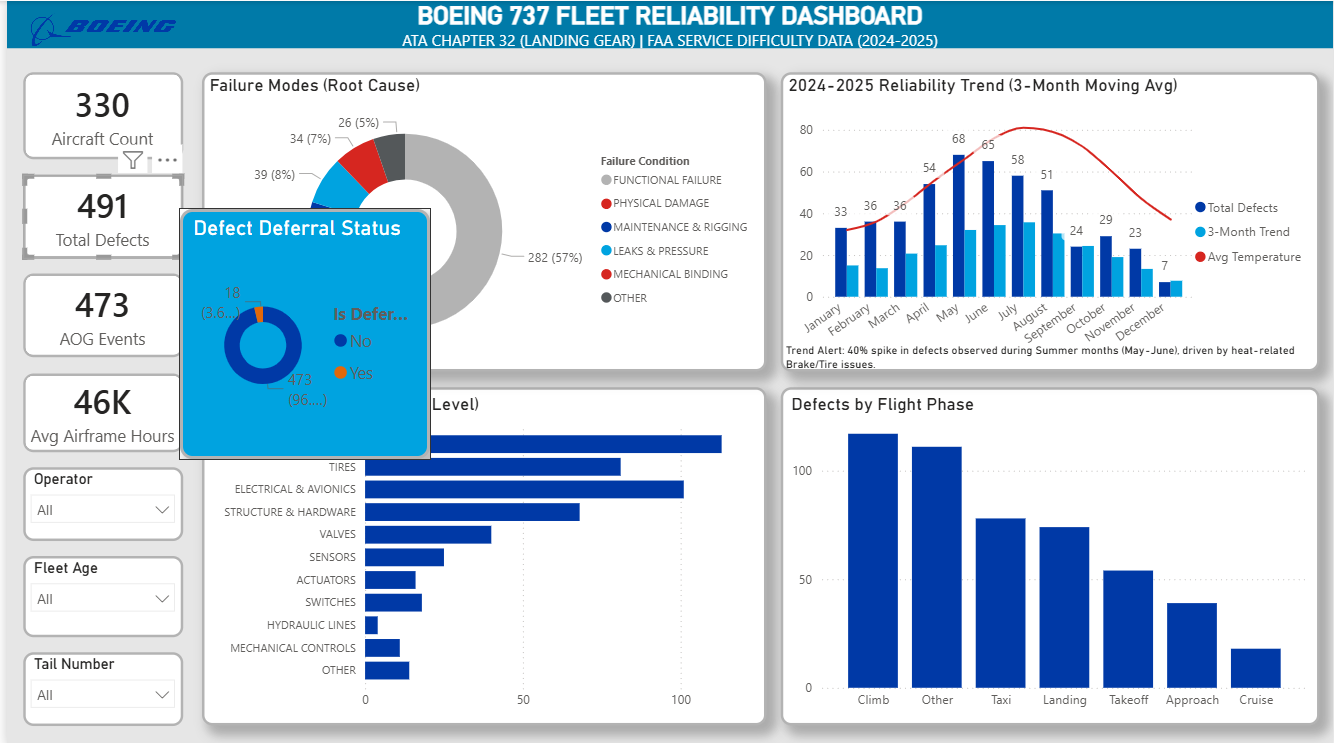

What the dashboard file says about the page in this screenshot:
{"tool":"powerbi","page":{"name":"Main","canvas":[1280,720],"ordinal":0},"visuals":[{"type":"clusteredBarChart","title":"Top Failure Drivers (System Level)","fields":{"Category":["aviation_project sdr_landing_gear.PartName (groups)"],"Y":["_key_measures.Total Defects"]},"box":[187.8,372.2,544.4,326.7],"z":1000},{"type":"slicer","title":"Filter by Operator","fields":{"Values":["aviation_project sdr_landing_gear.OperatorDesignator"]},"box":[16,449.7,154,71],"z":2000},{"type":"donutChart","title":"Failure Modes (Root Cause)","fields":{"Y":["_key_measures.Total Defects"],"Category":["aviation_project sdr_landing_gear.PartCondition (groups)"]},"box":[187.8,68.9,544.4,288.9],"z":3000},{"type":"shape","title":"BOEING 737 FLEET RELIABILITY DASHBOARD","box":[0,0,1280,45.6],"z":4000},{"type":"image","box":[15.6,0,154.4,45.6],"z":5000},{"type":"columnChart","title":"Defects by Flight Phase","fields":{"Y":["_key_measures.Total Defects"],"Category":["aviation_project sdr_landing_gear.StageOfOperationCode (groups)"]},"box":[746.7,372.2,520,326.7],"z":6000},{"type":"cardVisual","fields":{"Data":["_key_measures.Aircraft Count"]},"box":[16,69,154,84],"z":7000},{"type":"cardVisual","title":"Avg. Airframe Hours","fields":{"Data":["_key_measures.Avg Airframe Age"]},"box":[16,359.1,154,76],"z":8000},{"type":"lineClusteredColumnComboChart","title":"2024-2025 Reliability Trend (3-Month Moving Avg)","fields":{"Category":["DateTable.Date.Variation.Date Hierarchy.Month"],"Y":["_key_measures.Total Defects","_key_measures.3-Month Trend"],"Y2":["Sum(US_Temp_Data.AvgTemp)"]},"box":[746.9,69.2,520,288.5],"z":9000},{"type":"cardVisual","fields":{"Data":["_key_measures.Total Defects"]},"box":[15.6,167.6,154.4,81.1],"z":10000},{"type":"slicer","title":"Search Tail Number","fields":{"Values":["aviation_project sdr_landing_gear.RegistryNNumber"]},"box":[16,628,154,71],"z":11000},{"type":"slicer","fields":{"Values":["aviation_project sdr_landing_gear.Fleet Age Group"]},"box":[16,535.4,154,78],"z":12000},{"type":"cardVisual","fields":{"Data":["_key_measures.AOG Events"]},"box":[15.6,263.4,154.4,81.1],"z":13000},{"type":"textbox","title":"Trend Alert: 40% spike in defects observed during Summer months (May-June), driven by heat-related Brake/Tire issues.","box":[746.7,330.7,520,27.3],"z":14000}]}

Visuals, with their boxes in screenshot pixels (x1, y1, x2, y2), scaled from the page's 1280x720 canvas onto the 1334x743 screenshot:
"Top Failure Drivers (System Level)" clusteredBarChart: <region>196, 384, 763, 721</region>
"Filter by Operator" slicer: <region>17, 464, 177, 537</region>
"Failure Modes (Root Cause)" donutChart: <region>196, 71, 763, 369</region>
"BOEING 737 FLEET RELIABILITY DASHBOARD" shape: <region>0, 0, 1333, 47</region>
image: <region>16, 0, 177, 47</region>
"Defects by Flight Phase" columnChart: <region>778, 384, 1320, 721</region>
cardVisual - _key_measures.Aircraft Count: <region>17, 71, 177, 158</region>
"Avg. Airframe Hours" cardVisual: <region>17, 371, 177, 449</region>
"2024-2025 Reliability Trend (3-Month Moving Avg)" lineClusteredColumnComboChart: <region>778, 71, 1320, 369</region>
cardVisual - _key_measures.Total Defects: <region>16, 173, 177, 257</region>
"Search Tail Number" slicer: <region>17, 648, 177, 721</region>
slicer - aviation_project sdr_landing_gear.Fleet Age Group: <region>17, 553, 177, 633</region>
cardVisual - _key_measures.AOG Events: <region>16, 272, 177, 356</region>
"Trend Alert: 40% spike in defects observed during Summer months (May-June), driven by heat-related Brake/Tire issues." textbox: <region>778, 341, 1320, 369</region>
